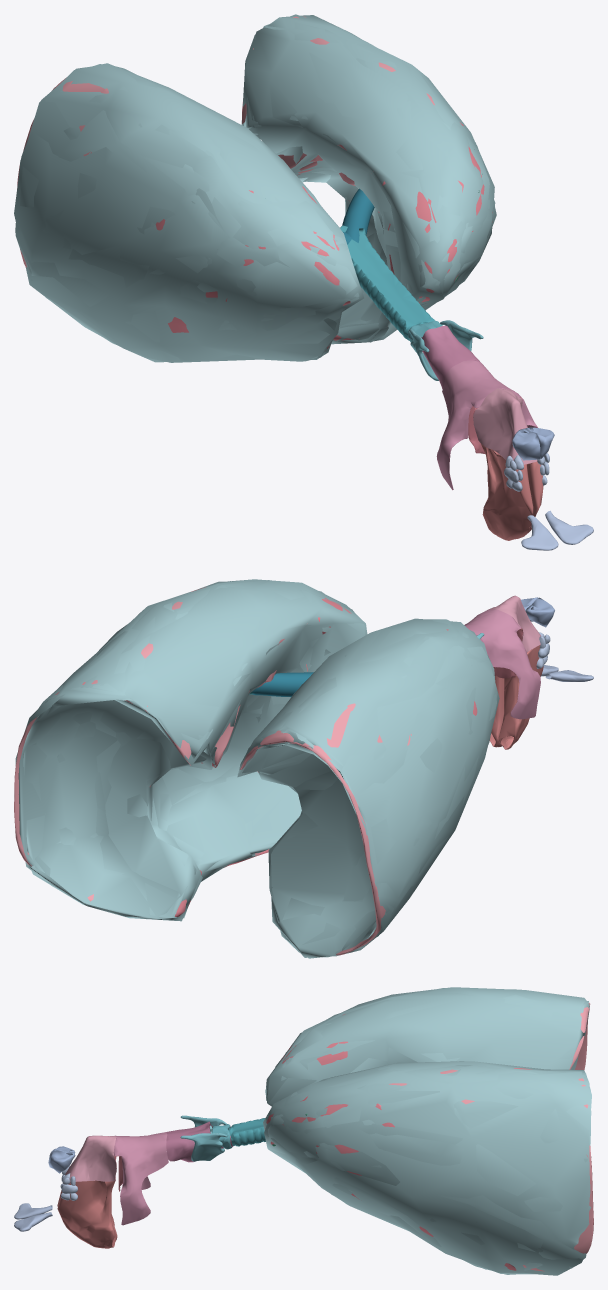
File: respiratory.glb
3 renders of one model, top to bottom at view 1: azimuth 30°, elevation 25°; view 2: azimuth 150°, elevation 25°; view 3: azimuth 270°, elevation 25°, orthographic. The views are drawn at different scales.
Visible parts, largest first — view 1: 胸膜, 鼻腔黏膜, 口咽, 气管, 鼻咽, 喉咽, 额窦, 蝶窦, 左肺上叶, 右肺上叶, 左主支气管, 甲状软骨 (+1 smaller); view 2: 胸膜, 口咽, 右肺下叶, 鼻腔黏膜, 左肺下叶, 鼻咽, 左主支气管, 蝶窦, 额窦; view 3: 胸膜, 口咽, 鼻腔黏膜, 鼻咽, 甲状软骨, 喉咽, 左肺下叶, 气管, 额窦, 左肺上叶, 右肺下叶, 蝶窦.
Part boxes in pixels (x1=…): 胸膜: x1=14, y1=14, x2=496, y2=362; 鼻腔黏膜: x1=480, y1=443, x2=543, y2=540; 口咽: x1=436, y1=360, x2=537, y2=490; 气管: x1=340, y1=225, x2=434, y2=340; 鼻咽: x1=473, y1=388, x2=537, y2=464; 喉咽: x1=408, y1=325, x2=479, y2=389; 额窦: x1=521, y1=510, x2=593, y2=550; 蝶窦: x1=512, y1=427, x2=554, y2=460; 左肺上叶: x1=333, y1=122, x2=492, y2=340; 右肺上叶: x1=155, y1=186, x2=350, y2=350; 左主支气管: x1=342, y1=188, x2=374, y2=242; 甲状软骨: x1=409, y1=320, x2=483, y2=380; 胸膜: x1=15, y1=579, x2=499, y2=958; 口咽: x1=464, y1=609, x2=540, y2=719; 右肺下叶: x1=240, y1=703, x2=411, y2=955; 鼻腔黏膜: x1=489, y1=645, x2=543, y2=749; 左肺下叶: x1=14, y1=587, x2=307, y2=901; 鼻咽: x1=487, y1=595, x2=540, y2=652; 左主支气管: x1=252, y1=672, x2=313, y2=697; 蝶窦: x1=521, y1=597, x2=554, y2=627; 额窦: x1=541, y1=665, x2=593, y2=681; 胸膜: x1=263, y1=987, x2=591, y2=1275; 口咽: x1=113, y1=1132, x2=168, y2=1225; 鼻腔黏膜: x1=57, y1=1175, x2=117, y2=1248; 鼻咽: x1=65, y1=1135, x2=116, y2=1181; 甲状软骨: x1=180, y1=1115, x2=227, y2=1161; 喉咽: x1=166, y1=1121, x2=232, y2=1162; 左肺下叶: x1=389, y1=1068, x2=593, y2=1271; 气管: x1=228, y1=1118, x2=265, y2=1146; 额窦: x1=14, y1=1203, x2=52, y2=1231; 左肺上叶: x1=265, y1=1096, x2=516, y2=1270; 右肺下叶: x1=569, y1=1003, x2=590, y2=1070; 蝶窦: x1=48, y1=1146, x2=75, y2=1173.
Size of the model in its own units: 0.3892 by 0.2838 by 0.6861.
